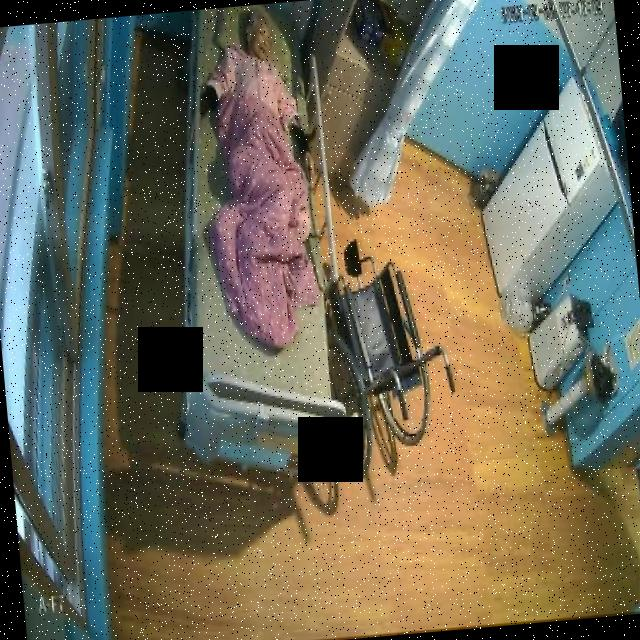bed: (150, 2, 352, 486)
lie: (191, 4, 328, 356)
patient: (192, 6, 310, 164)
